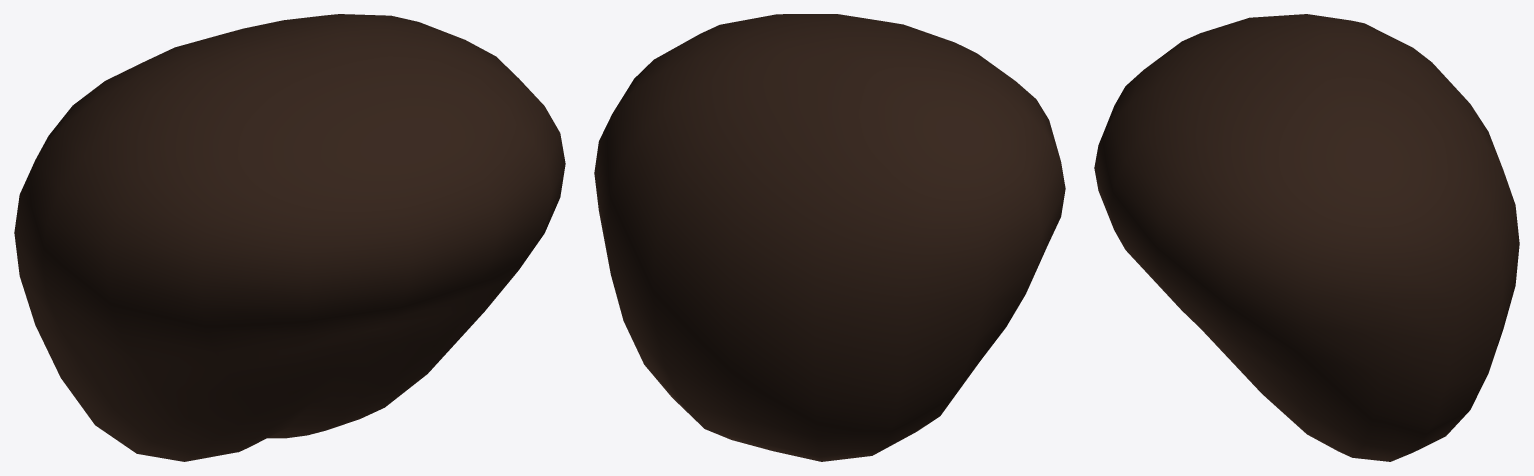
Rendered from Hair3M.glb.
The picture shows the model from 3 angles, left to right: view 1: azimuth 30°, elevation 25°; view 2: azimuth 150°, elevation 25°; view 3: azimuth 270°, elevation 25°; orthographic projection. The views are drawn at different scales.
Parts seen in each view (by area): view 1: Hair3M.001; view 2: Hair3M.001; view 3: Hair3M.001.
Part boxes in pixels (<box>): Hair3M.001: <box>14,14,565,461</box>; Hair3M.001: <box>594,14,1065,461</box>; Hair3M.001: <box>1094,14,1519,461</box>.
Size of the model in its own units: 3.23 by 2.69 by 2.75.
